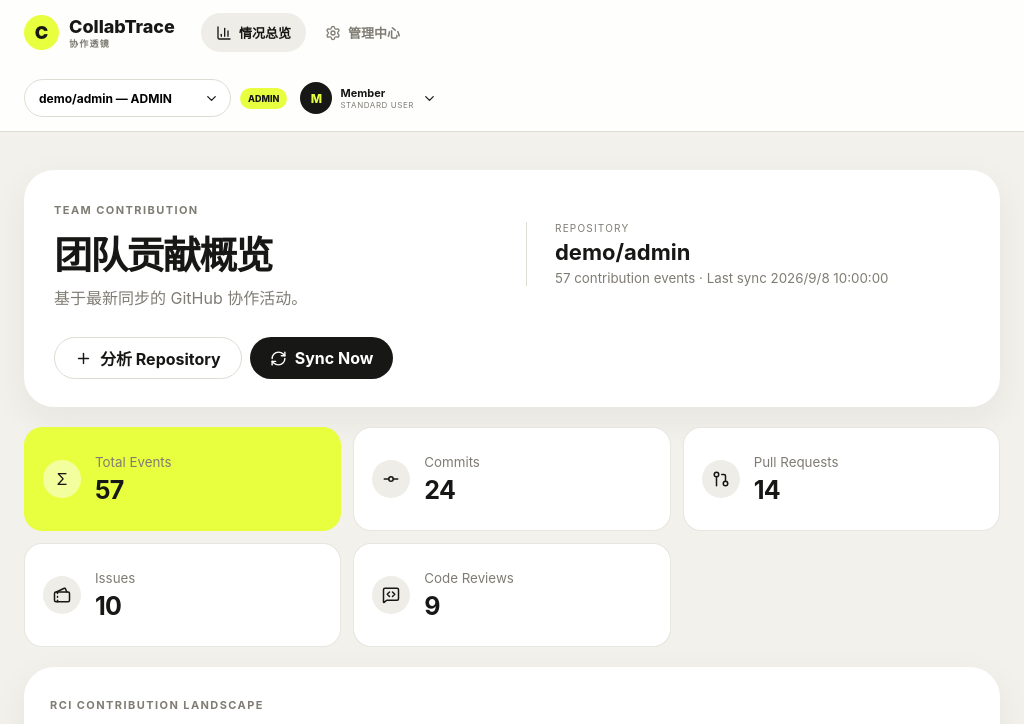
Test: repository-scoped RBAC and navigation › keeps System Users out of the profile menu for a repository ADMIN with standard system role
Expected: the link "管理中心" is shown, top-left (325, 24), bottom-right (400, 41)
Click the button with aria-label "用户菜单" at (370, 98), box top-left (296, 78), bottom-right (444, 118)
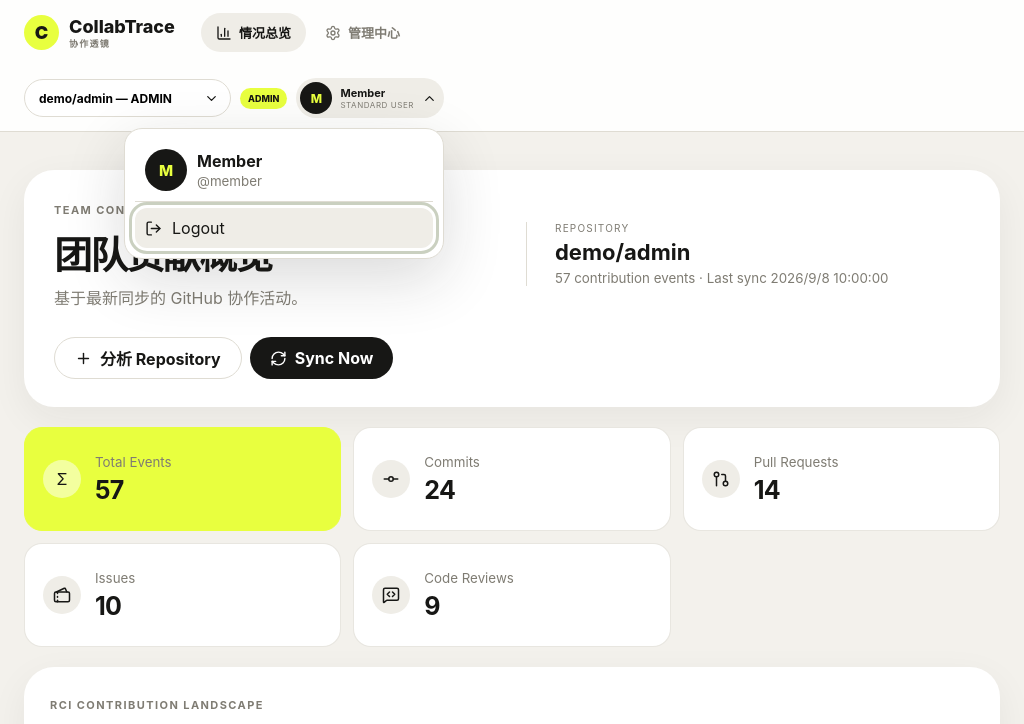
Result: the menu item "Logout" is shown at top-left (135, 208), bottom-right (433, 248)
